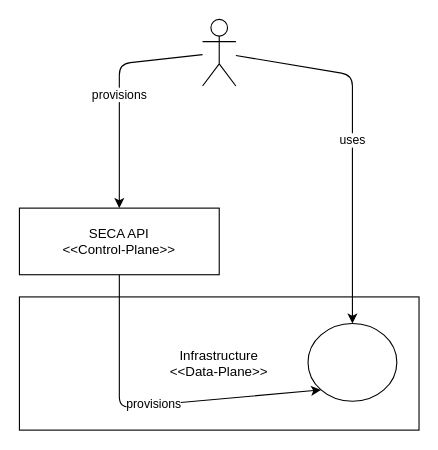
Image size: 438x450. Some labels were removed from this diagram. Each missing label, with the centre of its shape:
Resource: point (352, 361)
User: point (218, 52)
